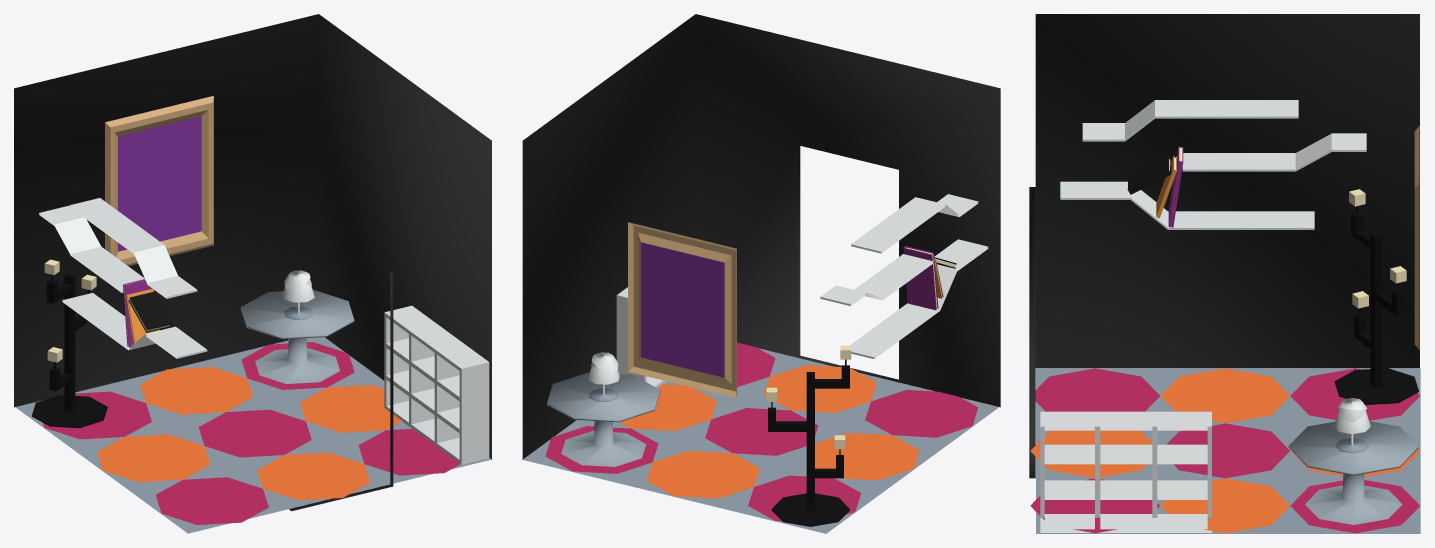
Rendered from MagicRoomLionel.fbx.
3 views of the same model, side by side, from view 1: azimuth 30°, elevation 25°; view 2: azimuth 150°, elevation 25°; view 3: azimuth 270°, elevation 25° (orthographic). The views are drawn at different scales.
Parts seen in each view (by area): view 1: Ground.001; view 2: Ground.001; view 3: Ground.001.
Boxes of the visible parts, box(x1,y1,x2,y2) form: Ground.001: box(14, 14, 492, 533); Ground.001: box(522, 14, 1000, 533); Ground.001: box(1029, 14, 1420, 533).
Bounding box in the file's own units: 3.01 × 3 × 3.
